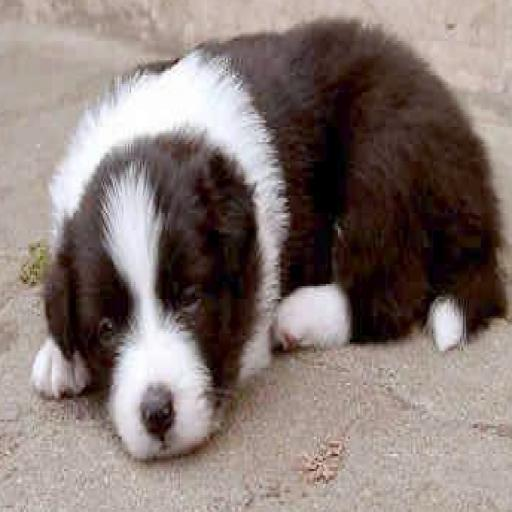dog_face: (27, 122, 299, 476)
